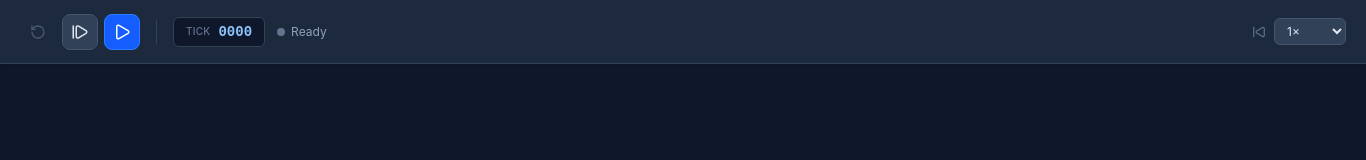
Test: ControlBar › Step button initialises simulation and advances tick
The width and height of the screenshot is (1366, 160).
Click the button with test id "btn-step" at (80, 32), box x1=62 y1=14 x2=98 y2=50
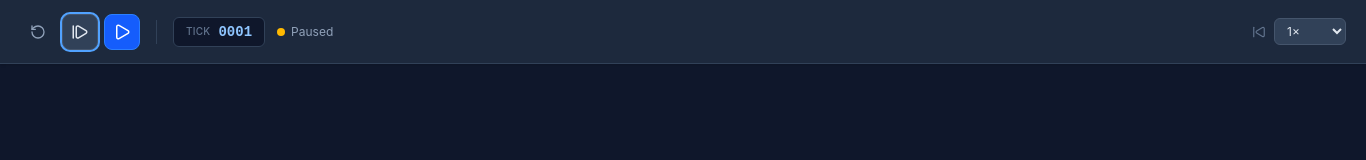
Expected: the text with test id "tick-display" reads "0001", x1=218 y1=24 x2=252 y2=40
